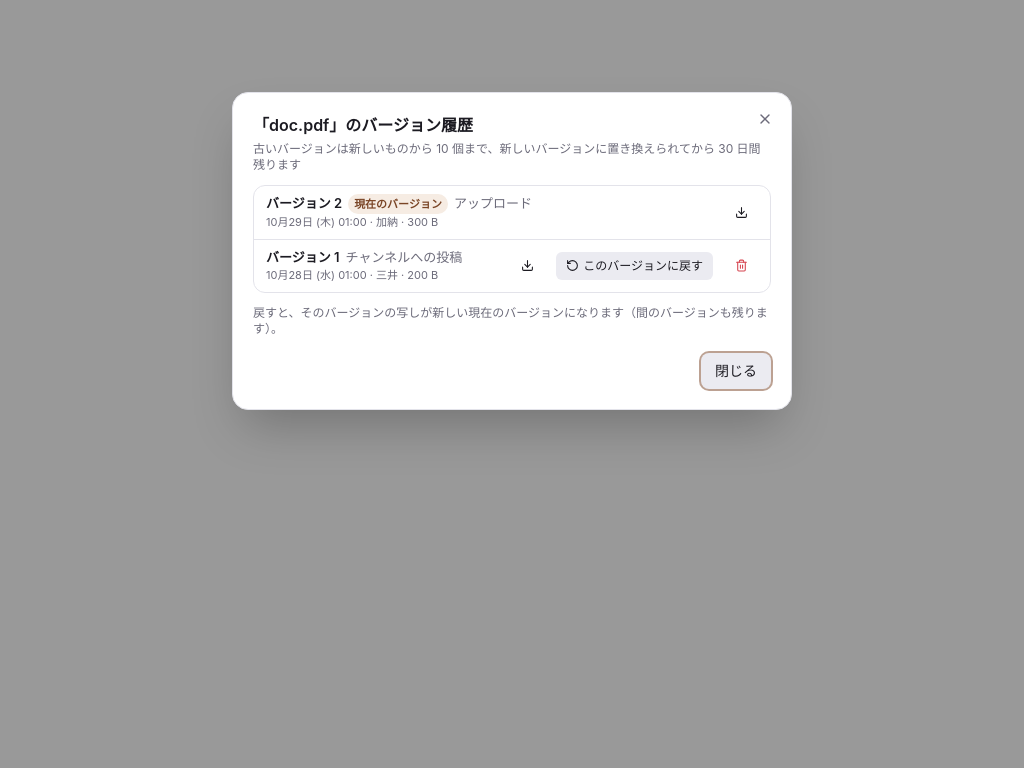
Test: versions and the administrators' screen › names a posted version and says why it cannot be deleted (409 drive_version_posted)
Expected: the text "バージョン 1" is shown, [266,248,340,267]
Click the button named "バージョン 1 を削除". click: click(742, 266)
box: [725,252,758,280]
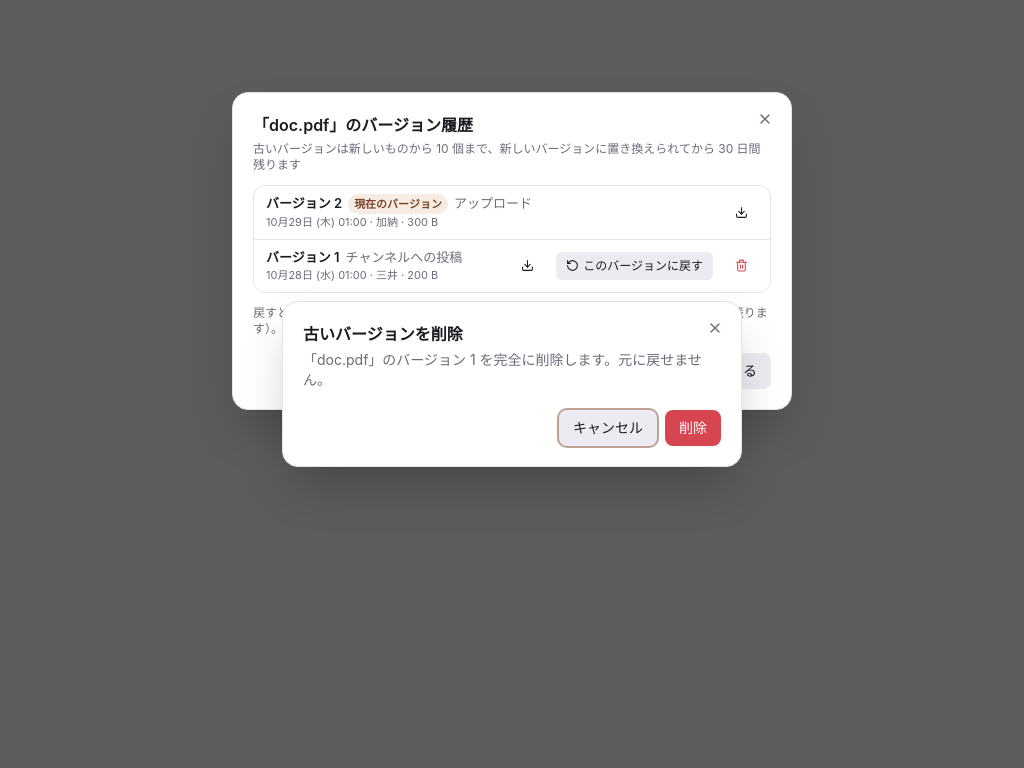
Click the button "削除". click: click(693, 428)
box: [665,410,721,446]
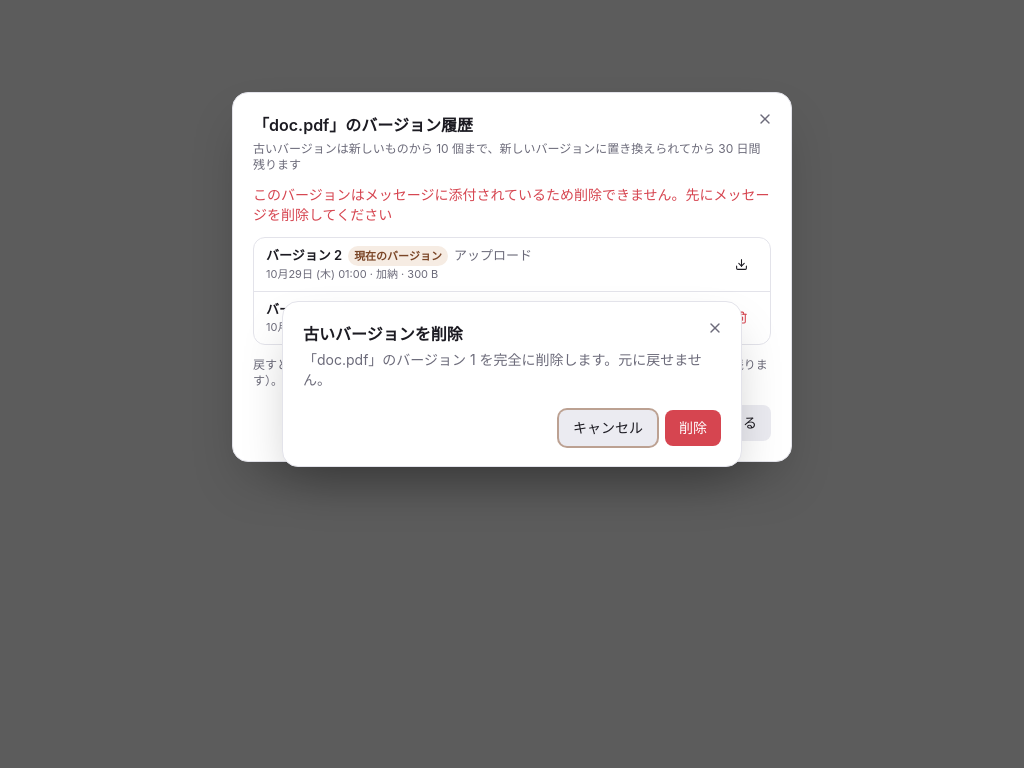
Expected: the text "このバージョンはメッセージに添付されているため削除できません。先にメッセージを削除してください" is shown, [253,185,771,225]
